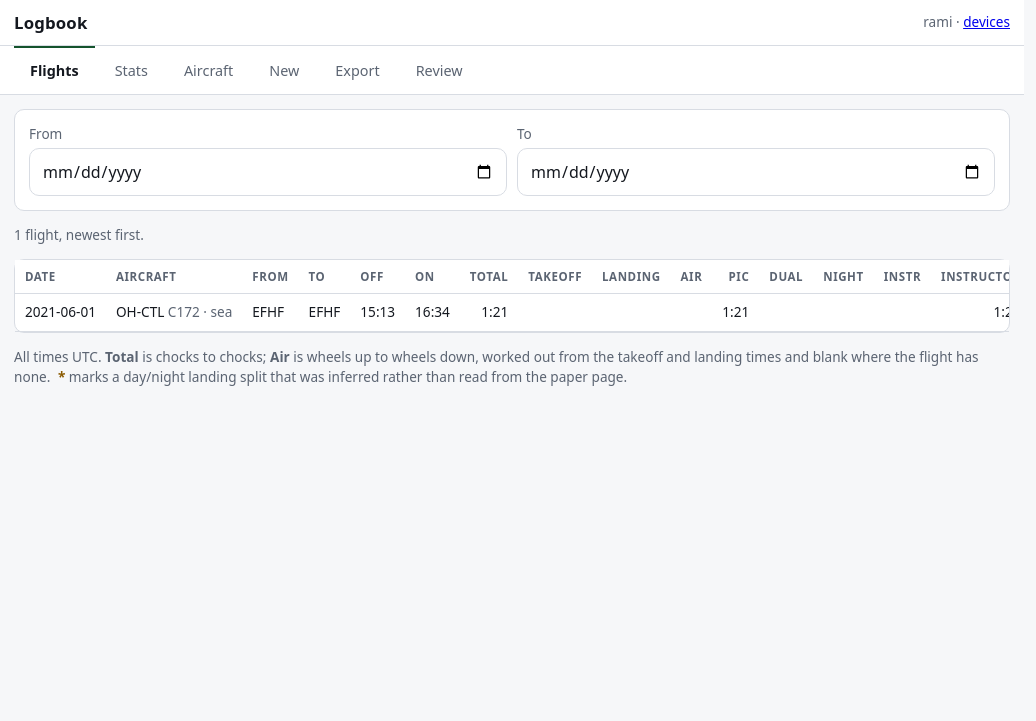
Scenario: the new-flight form › puts the server field errors on the controls they name
This screenshot has width=1036, height=721.
Click the link "New".
click(284, 71)  # box x1=269 y1=61 x2=299 y2=80
(page scrolled)
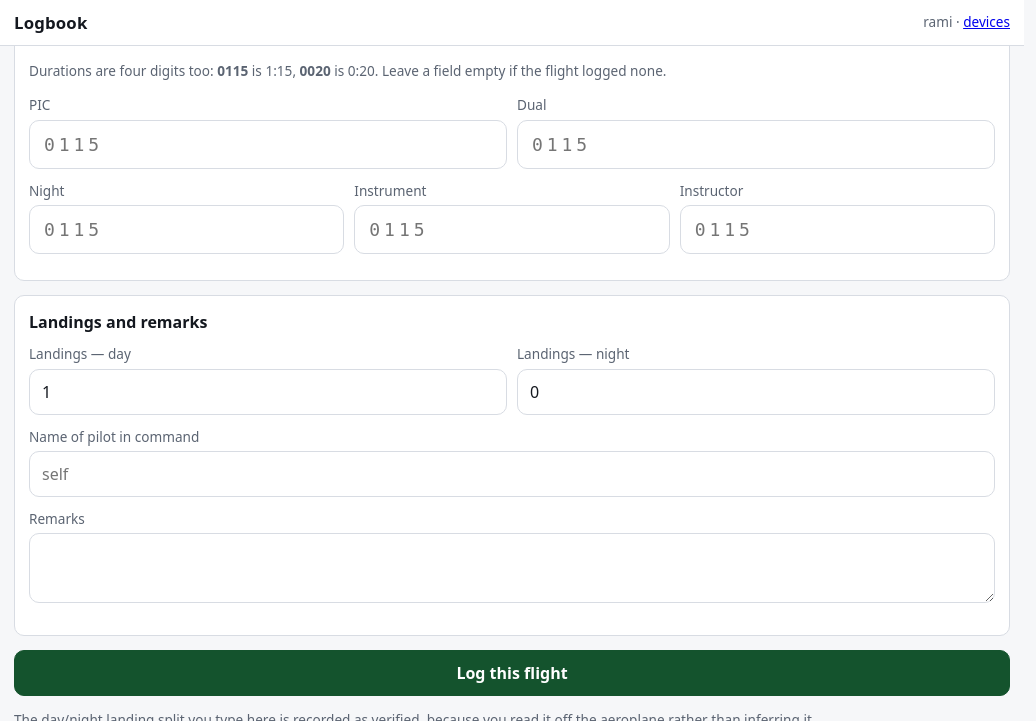
Click the button "Log this flight".
click(512, 673)  # box x1=14 y1=650 x2=1010 y2=696
(page scrolled)
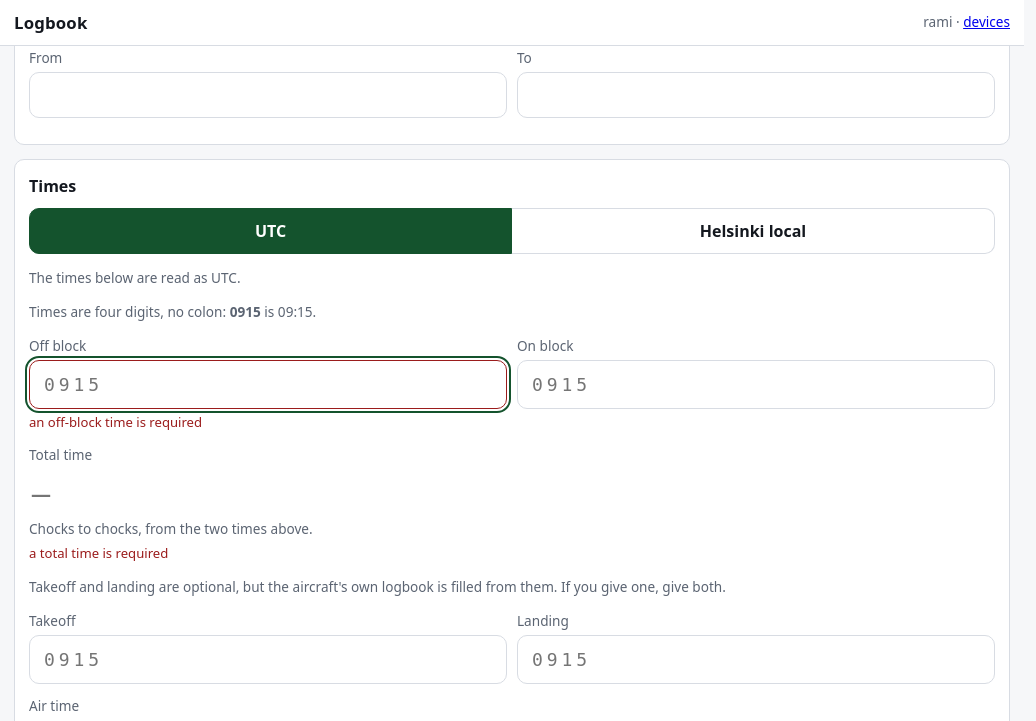
Expected: the text "a total time is required" is shown, x1=29 y1=544 x2=168 y2=562
Expected: the text "an off-block time is required" is shown, x1=29 y1=413 x2=202 y2=431
